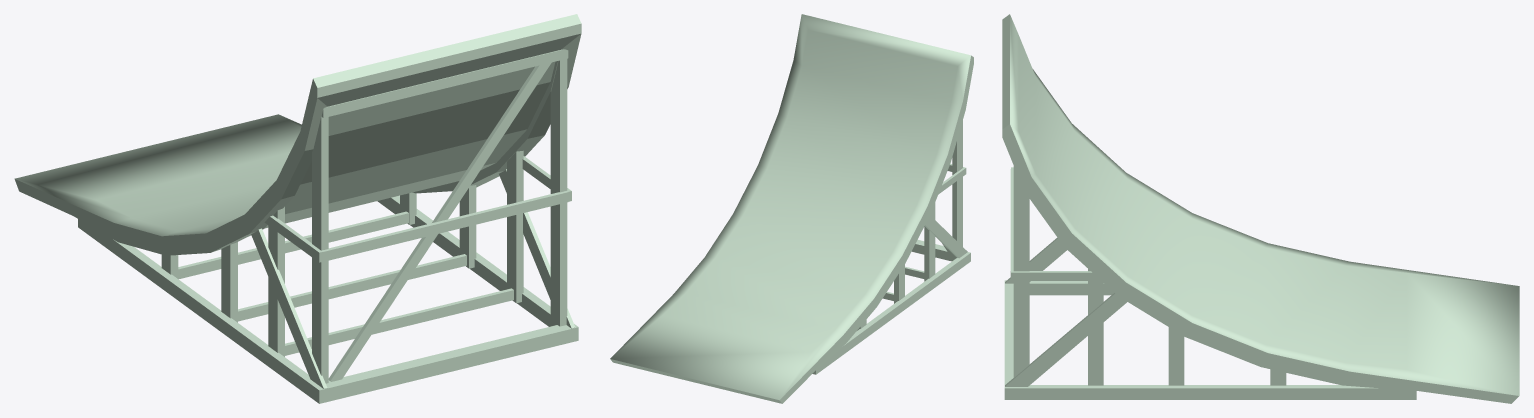
The picture shows the model from 3 angles, left to right: view 1: azimuth 30°, elevation 25°; view 2: azimuth 150°, elevation 25°; view 3: azimuth 270°, elevation 25°; orthographic projection. The views are drawn at different scales.
Visible parts, largest first — view 1: Circle; view 2: Circle; view 3: Circle.
Part boxes in pixels (left/top/right/bottom): Circle: left=14, top=14, right=581, bottom=403; Circle: left=610, top=14, right=973, bottom=403; Circle: left=1002, top=14, right=1519, bottom=403.
Size of the model in its own units: 345 by 409 by 685.
